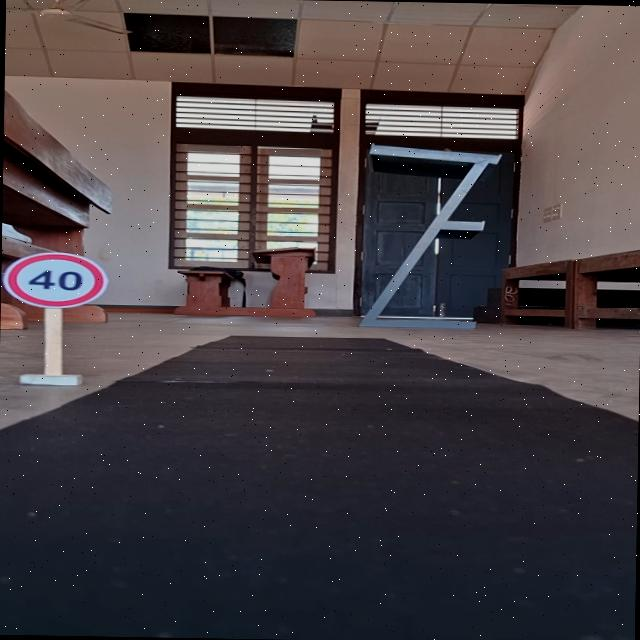Speed40: (1, 248, 112, 310)
